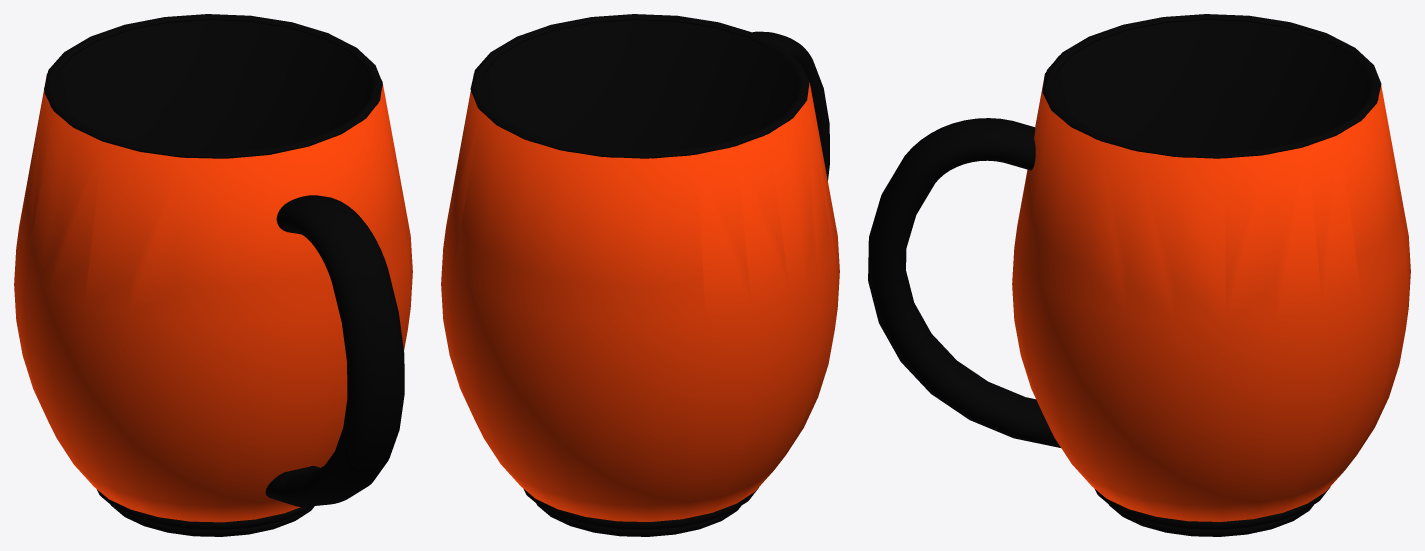
The model's file is mug_05_origin_gt_7.dae.
3 renders of one model, left to right at view 1: azimuth 30°, elevation 25°; view 2: azimuth 150°, elevation 25°; view 3: azimuth 270°, elevation 25°, orthographic.
Parts seen in each view (by area): view 1: group_1 (×3), group_4, group_5, group_2, group_3; view 2: group_1 (×2), group_5, group_4, group_2, group_3; view 3: group_1 (×2), group_4, group_5, group_2, group_3.
Boxes of the visible parts, box(x1,y1,x2,y2) form: group_1 (×3): box(14, 20, 412, 522); group_4: box(265, 195, 404, 506); group_5: box(44, 14, 382, 158); group_2: box(97, 489, 313, 530); group_3: box(111, 505, 314, 536); group_1 (×2): box(441, 20, 839, 521); group_5: box(470, 14, 809, 158); group_4: box(753, 31, 829, 180); group_2: box(523, 487, 758, 529); group_3: box(536, 504, 740, 536); group_1 (×2): box(1012, 20, 1410, 521); group_4: box(868, 118, 1060, 447); group_5: box(1042, 14, 1381, 158); group_2: box(1095, 487, 1330, 529); group_3: box(1109, 505, 1313, 536).
Bounding box in the file's own units: 5.08 × 6.92 × 5.75.
